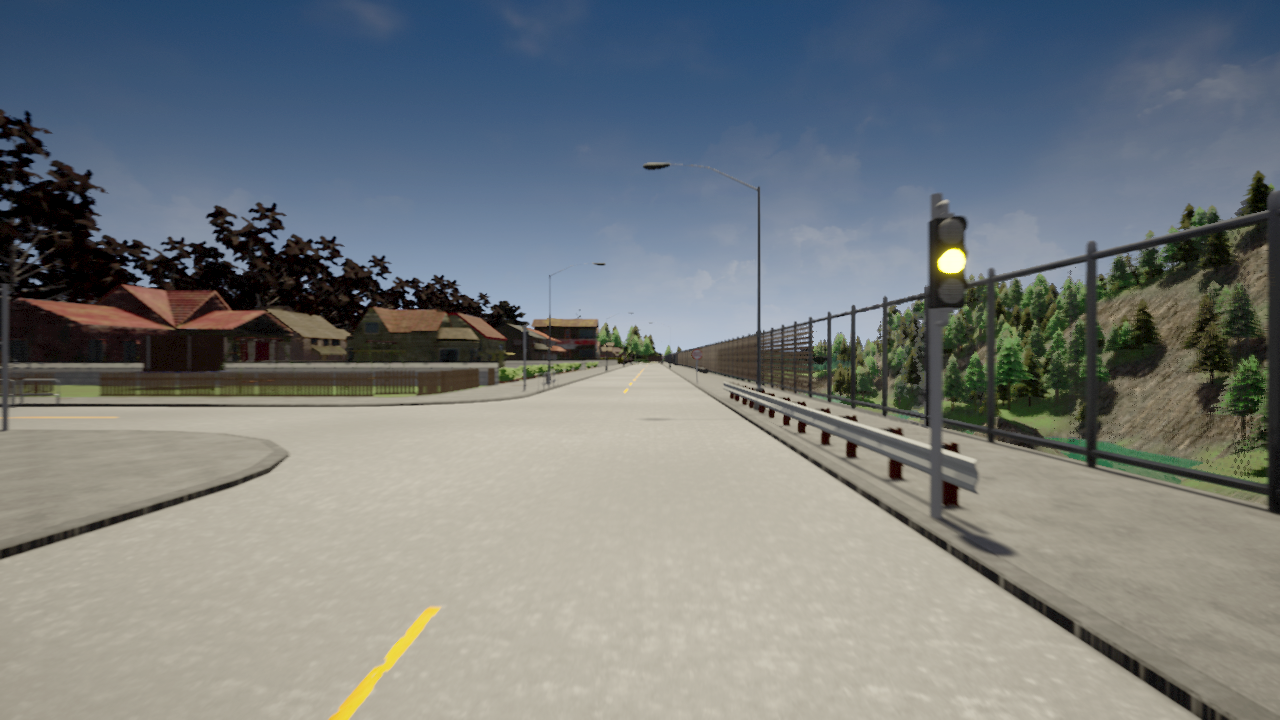yellow: (925, 213, 966, 308)
